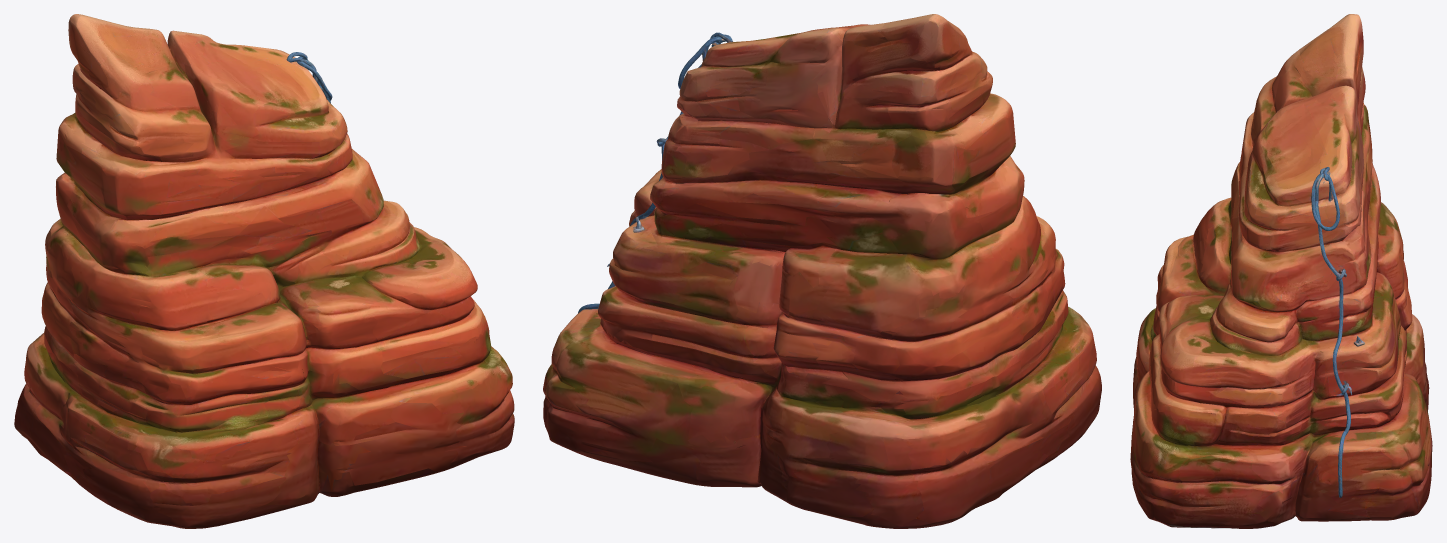
File: wall.glb
3 renders of one model, left to right at view 1: azimuth 30°, elevation 25°; view 2: azimuth 150°, elevation 25°; view 3: azimuth 270°, elevation 25°, orthographic. The views are drawn at different scales.
Parts seen in each view (by area): view 1: Mesh_0; view 2: Mesh_0; view 3: Mesh_0.
Boxes of the visible parts, <box> form: Mesh_0: <box>14,14,514,528</box>; Mesh_0: <box>543,14,1101,528</box>; Mesh_0: <box>1130,14,1432,528</box>.
Size of the model in its own units: 1.84 by 1.9 by 1.39.
Materials: 1 (1 with a texture image).
